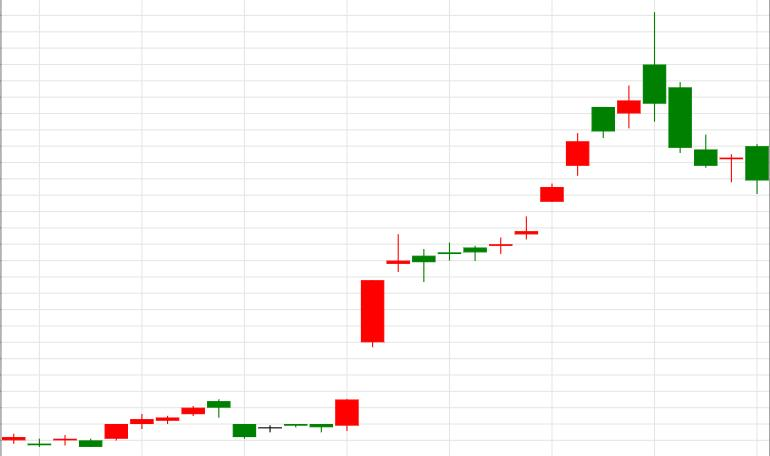shooting_star_fall: (489, 12, 666, 254)
